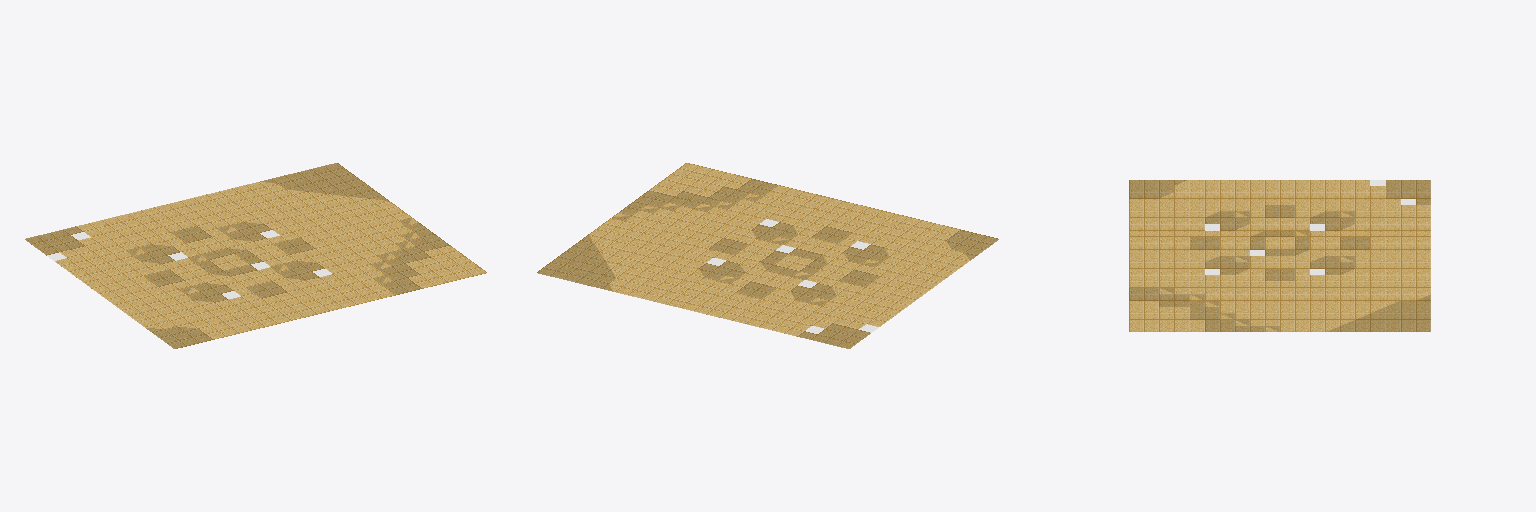
The picture shows the model from 3 angles: view 1: azimuth 30°, elevation 25°; view 2: azimuth 150°, elevation 25°; view 3: azimuth 270°, elevation 25°; orthographic projection.
Visible parts, largest first — view 1: FloorSide_9; view 2: FloorSide_9; view 3: FloorSide_9.
Boxes of the visible parts, box(x1,y1,x2,y2) form: FloorSide_9: box(25, 163, 486, 348); FloorSide_9: box(537, 163, 998, 348); FloorSide_9: box(1129, 180, 1430, 331).
Bounding box in the file's own units: 24 × 0 × 20.
6 materials, 5 textured.